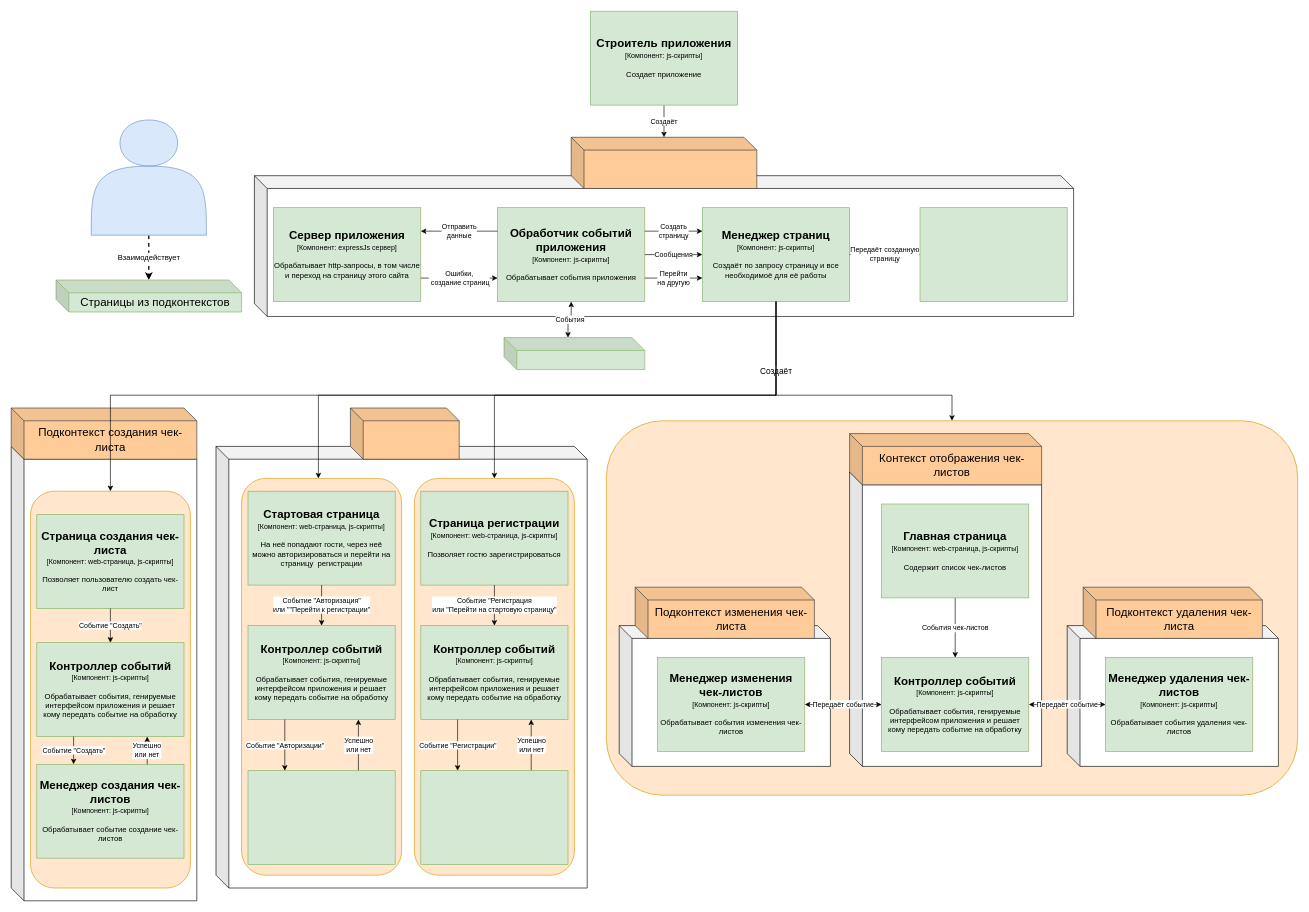
The diagram is 1309 pixels wide and 912 high, and some of its shapes have lost their labels. Each missing label, with the centre of its shape:
"Контекст авторизации" belongs at [404,433].
"Контроллеры событий" belongs at [574,353].
"Менеджер авторизации [Компонент : js-скрипты] Обрабатывает события авторизации" belongs at [321,817].
"Менеджер регистрации [Компонент : js-скрипты] Обрабатывает события регистрации" belongs at [494,817].
"Пользователь [Персона] Редактирует чек-листы" belongs at [148,177].
"Приложение" belongs at [664,162].
"Хранилище страниц [Компонент : js-скрипты] Хранит страницы и их составляющие" belongs at [993,254].
